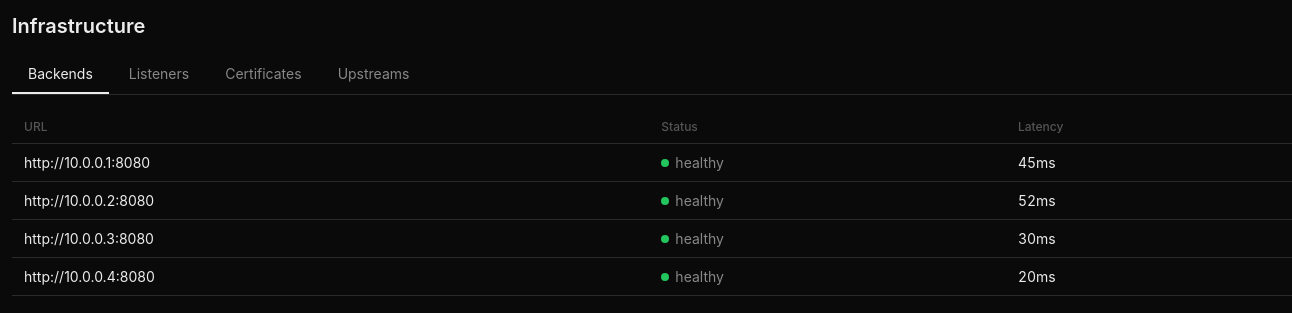
InfrastructurePage › expired cert shows critical state
This screenshot has width=1292, height=313.
Click the tab "Certificates".
click(263, 75)  # box [209,56,318,94]
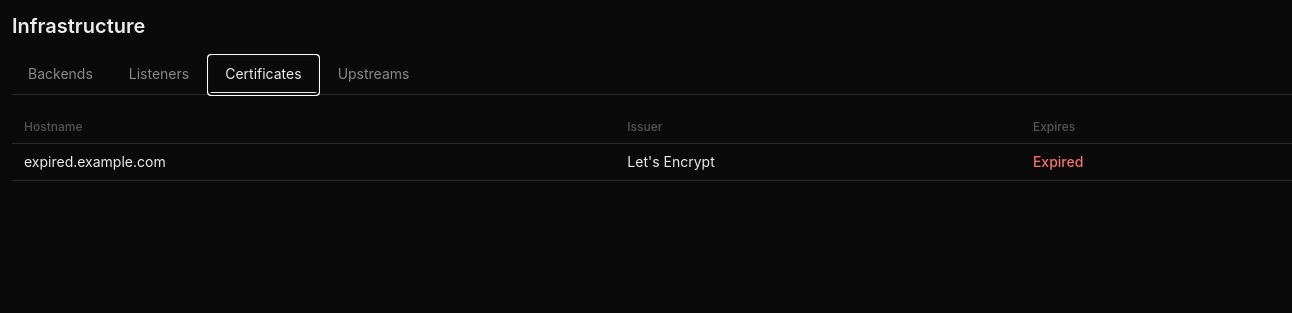
Now the text "Expired" is shown, box [1033,153,1083,170]
